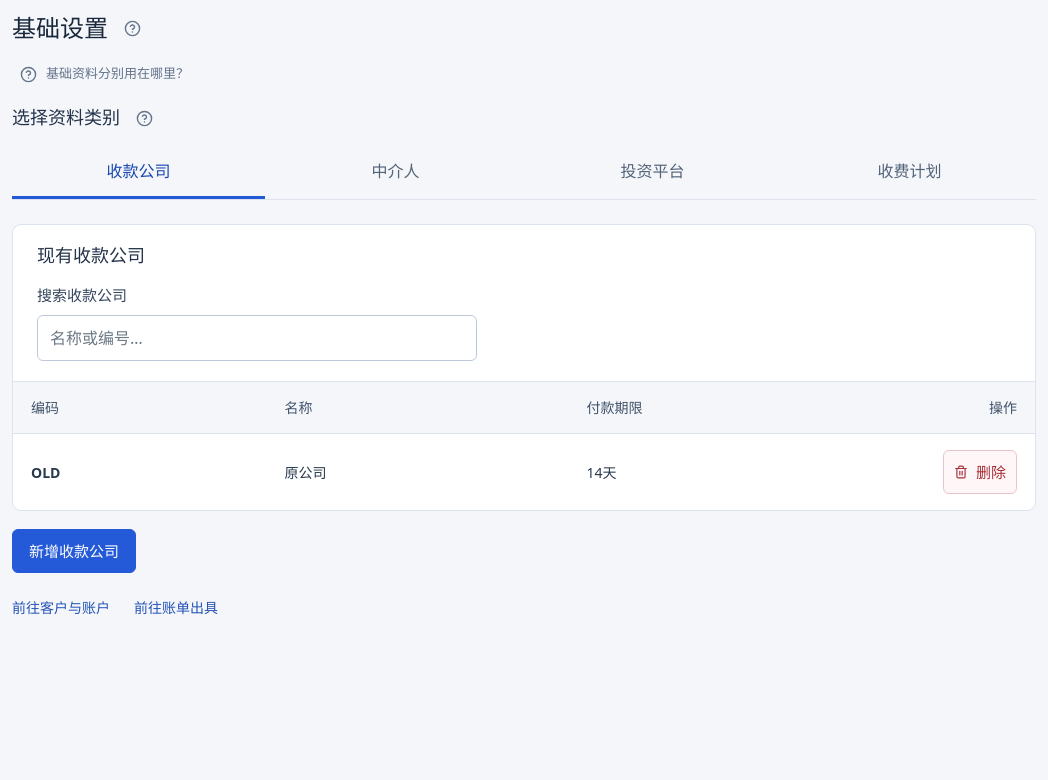
Test: 保存成功后立即更新页面 › 中介人：异步完成后重置表单并显示新记录
The width and height of the screenshot is (1048, 780).
Expected: the text "原公司" is shown, [266,434,569,510]
Click the button "中介人" at (396, 173), box [269,146,522,199]
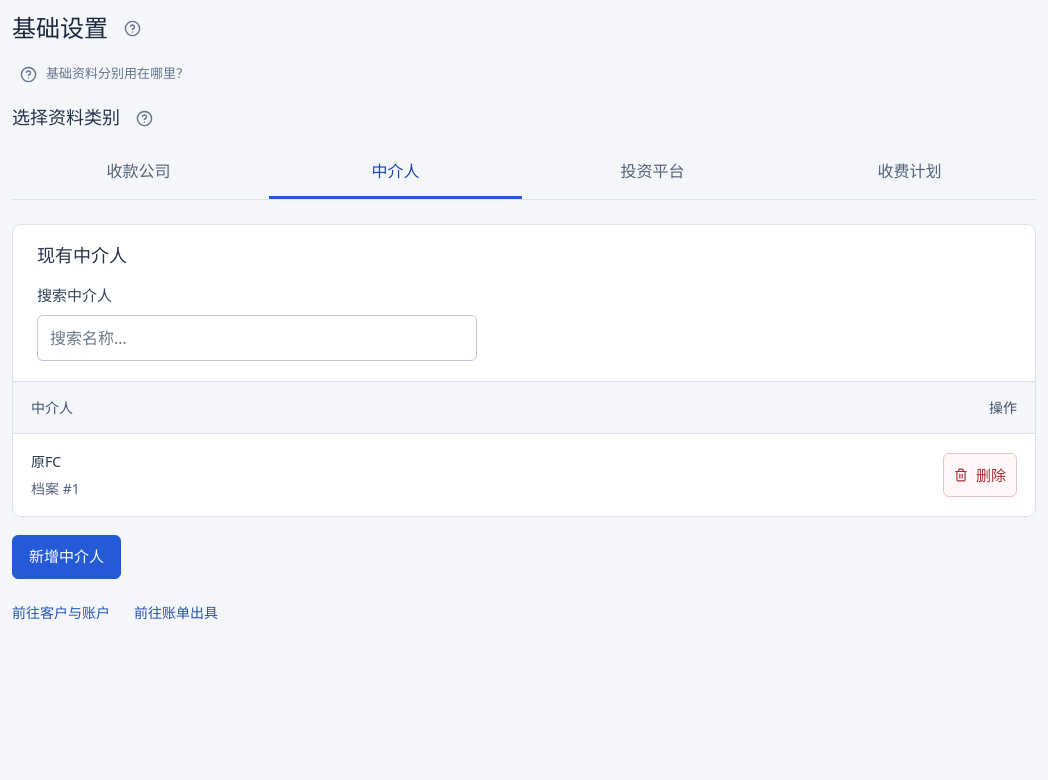
Click the button "新增中介人" at (66, 557), box [12,535,121,579]
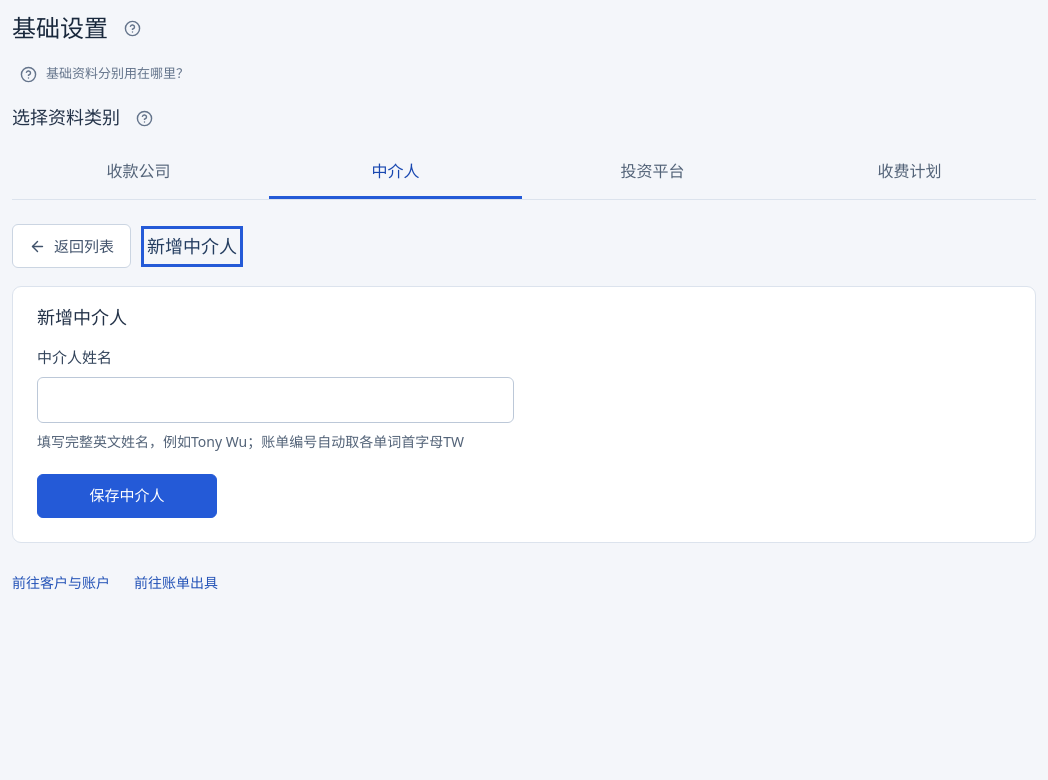
Result: the field named "name" is shown
Type "新FC" into the field named "name" at (276, 400), box [37,377,514,423]
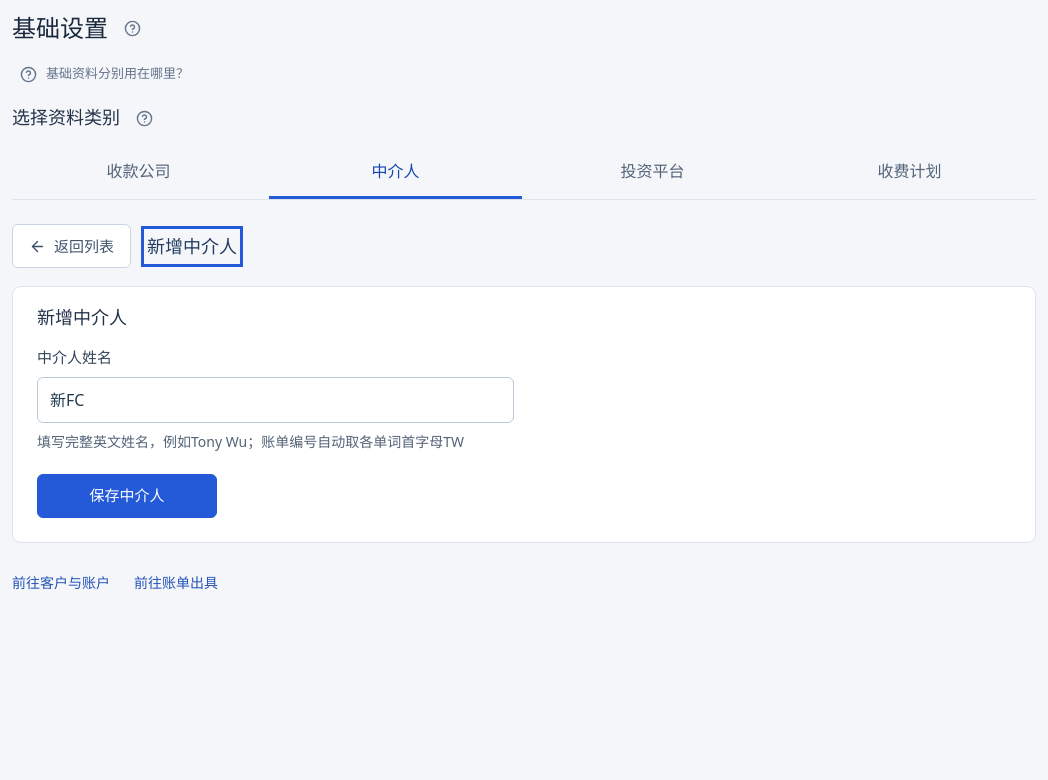
Submit the form "保存中介人", box [37,347,514,518]
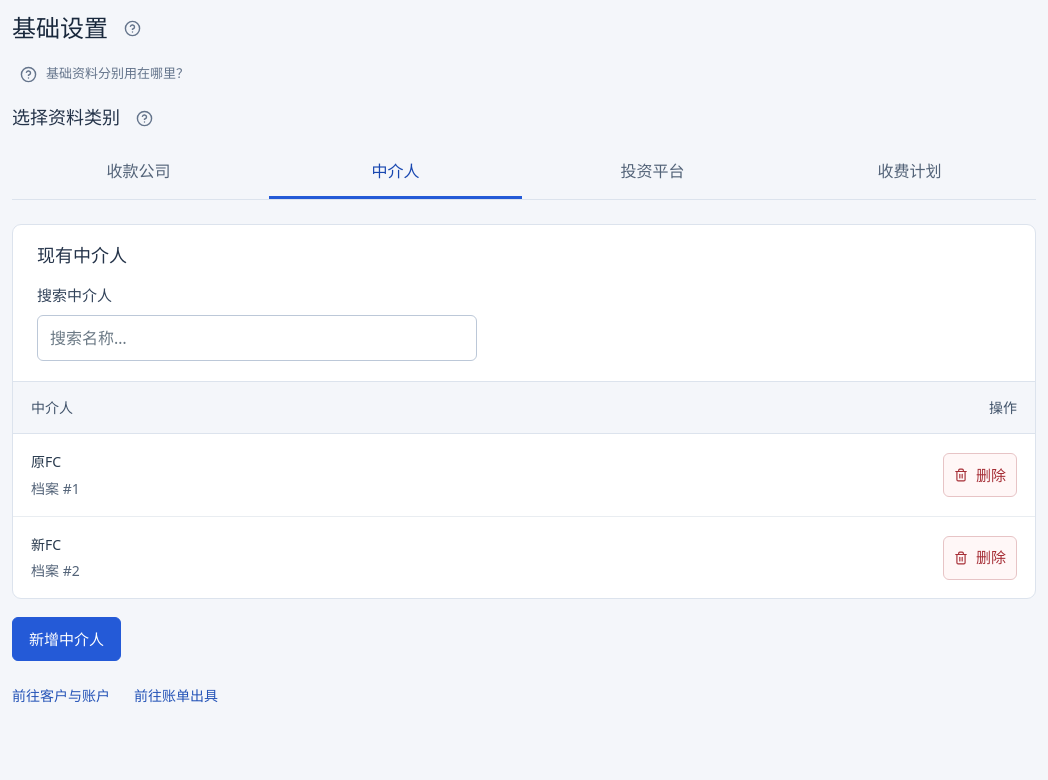
Result: the text "新FC" is shown at [31,535,61,554]
